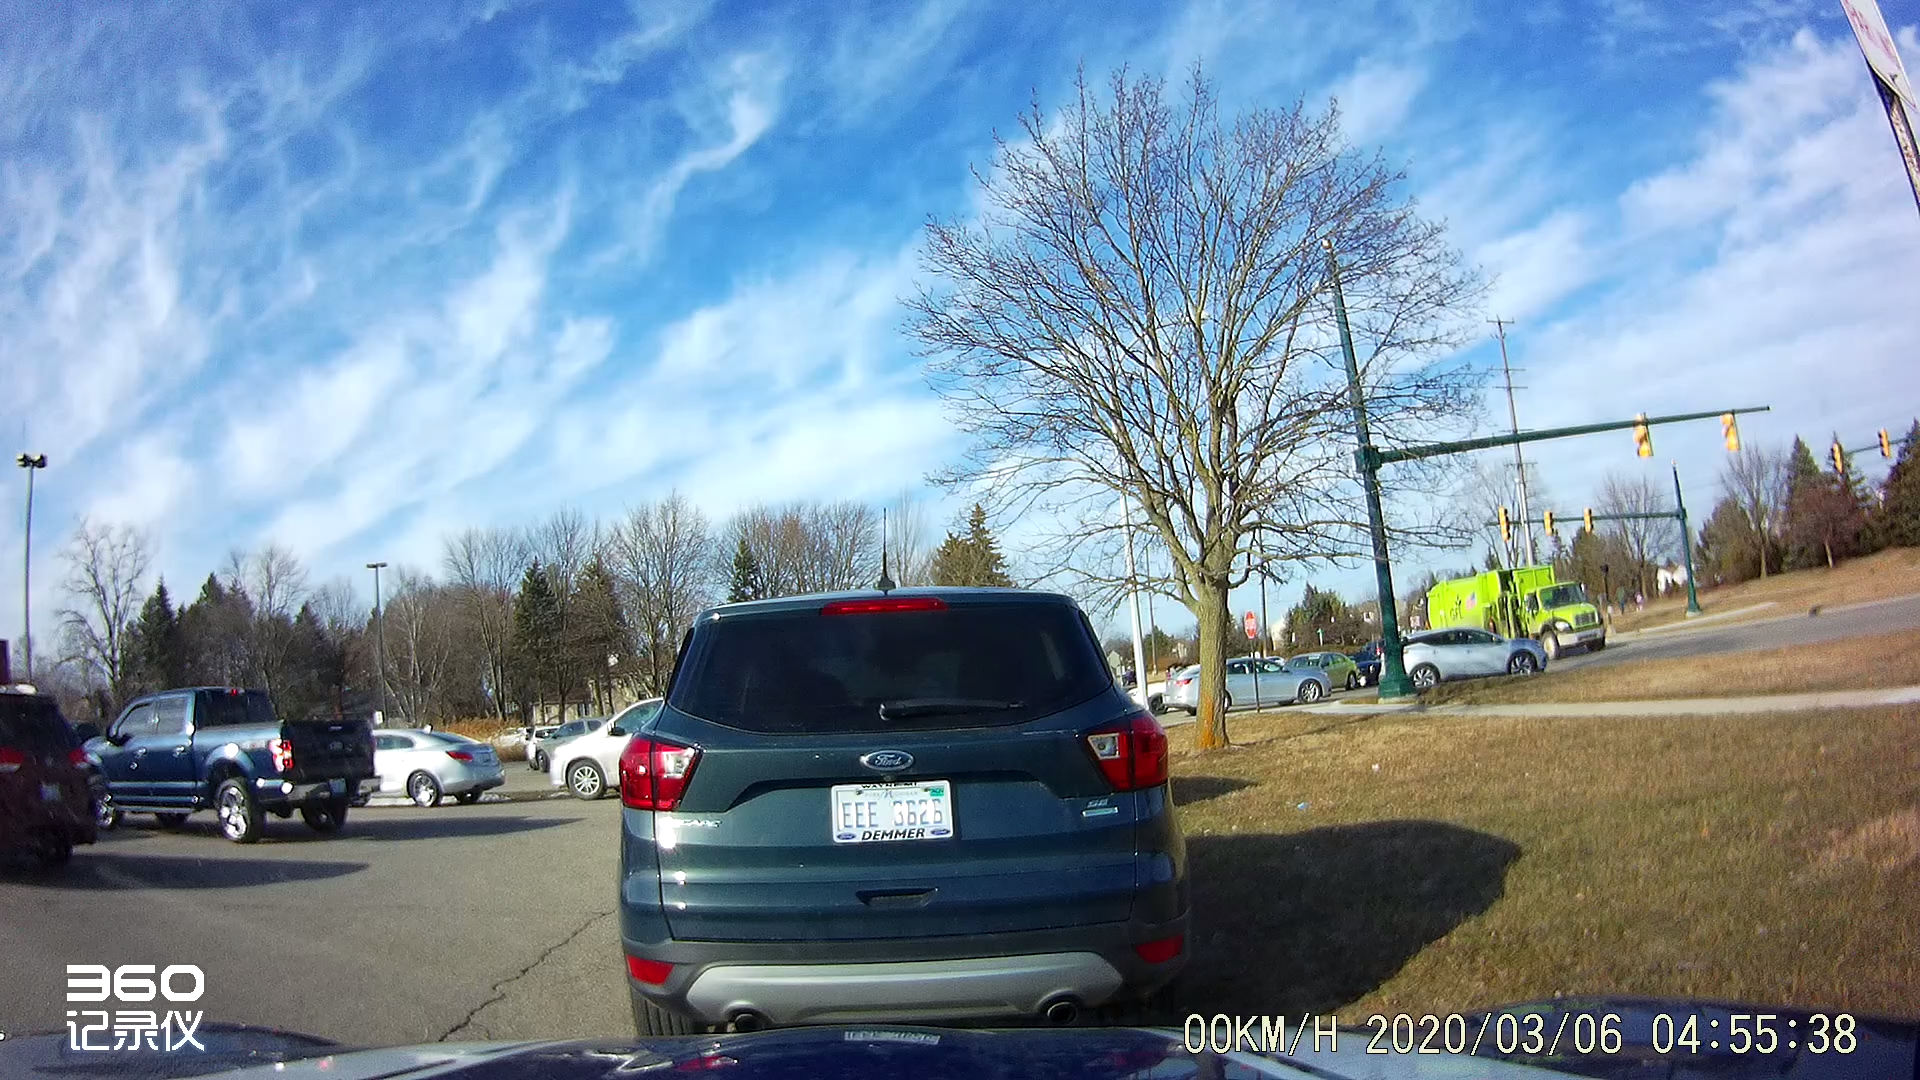License Plate: (828, 783, 956, 845)
